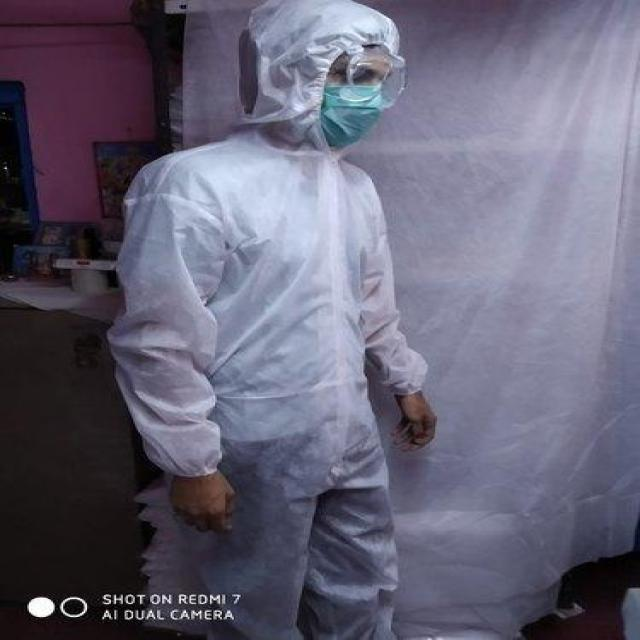Coverall: (79, 0, 453, 630)
Goggles: (306, 52, 439, 105)
Mask: (314, 73, 393, 155)
